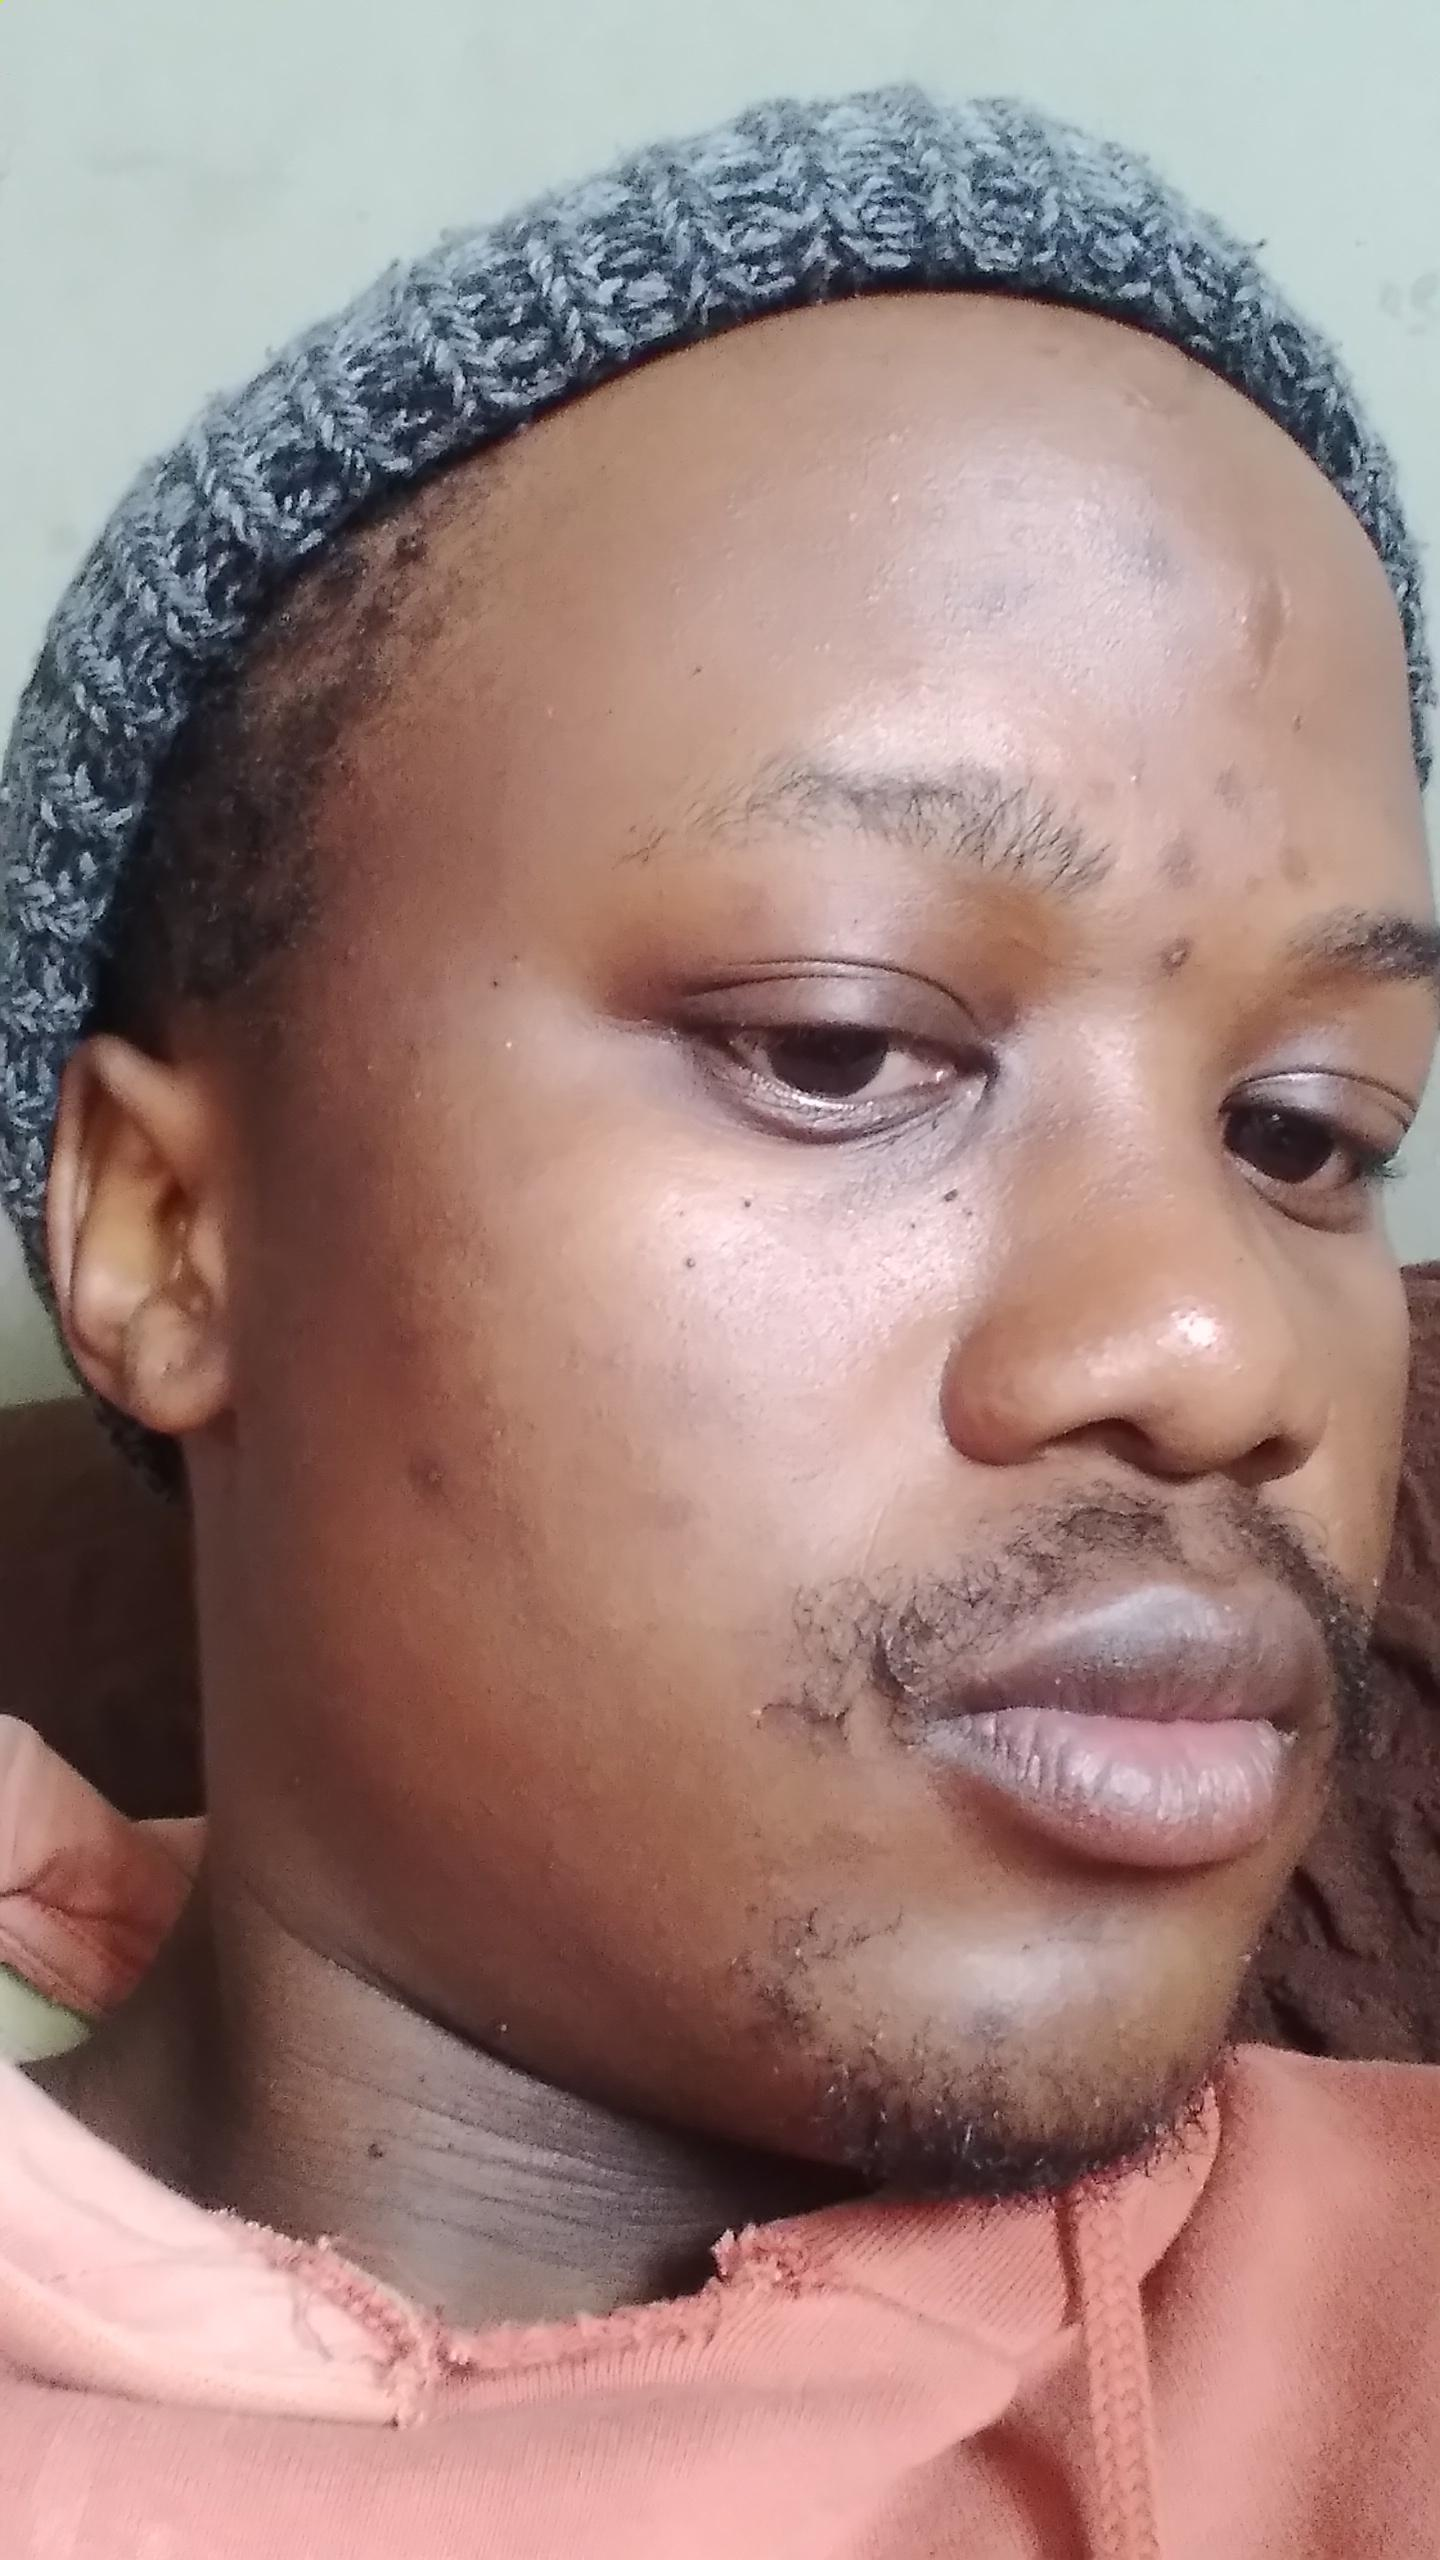Acne: (399, 1435, 457, 1507), (1150, 823, 1206, 897), (1109, 529, 1180, 585), (1269, 832, 1322, 900), (385, 1269, 425, 1354), (1203, 758, 1255, 816), (1143, 934, 1197, 986)
Eyebags: (644, 1069, 993, 1204)
